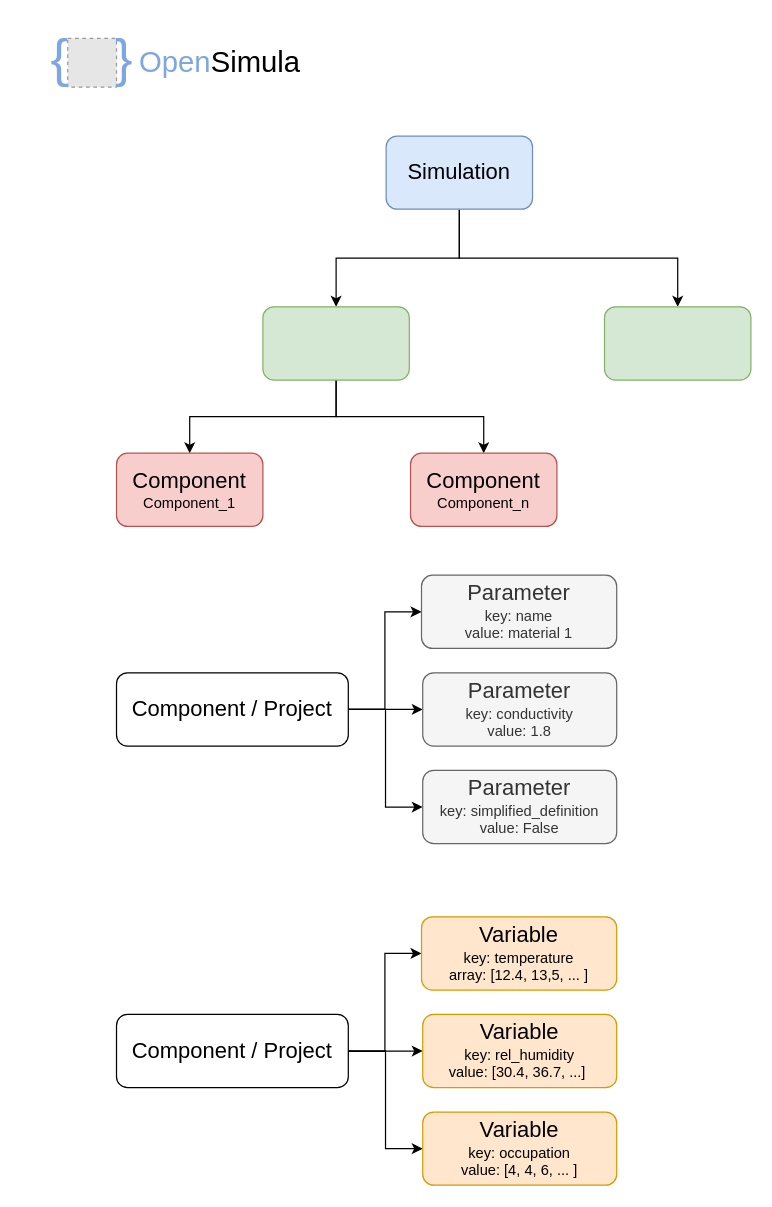
The diagram is 772 pixels wide and 1207 high, and some of its shapes have lost their labels. Grey dashed boxes stand in for pictures. Each missing label, with the centre of its shape:
"Project Project_1" goes at [335,343].
"Project Project_n" goes at [677,343].
